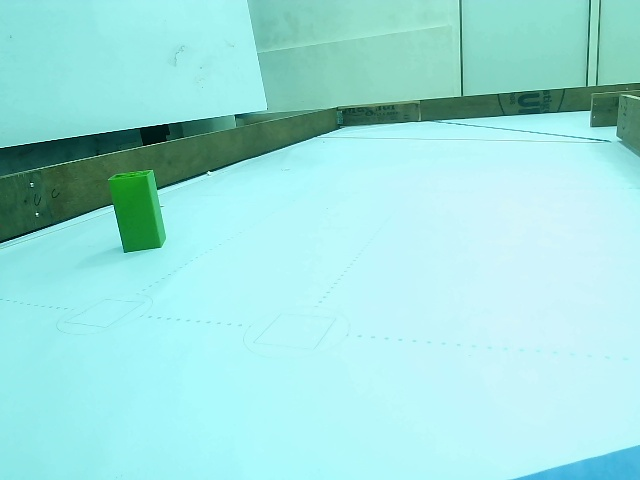green: (110, 173, 167, 249)
